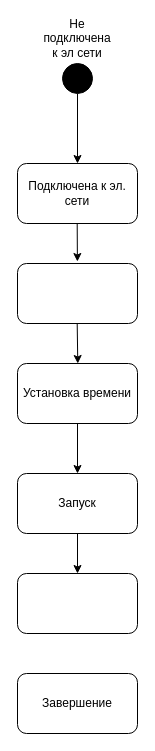
Image size: 155x751. Some labels were removed from this diagram. The centre of each missing label's shape, as x and y in pixels:
Работа: point 77,603
Установка мощности: point 77,293
